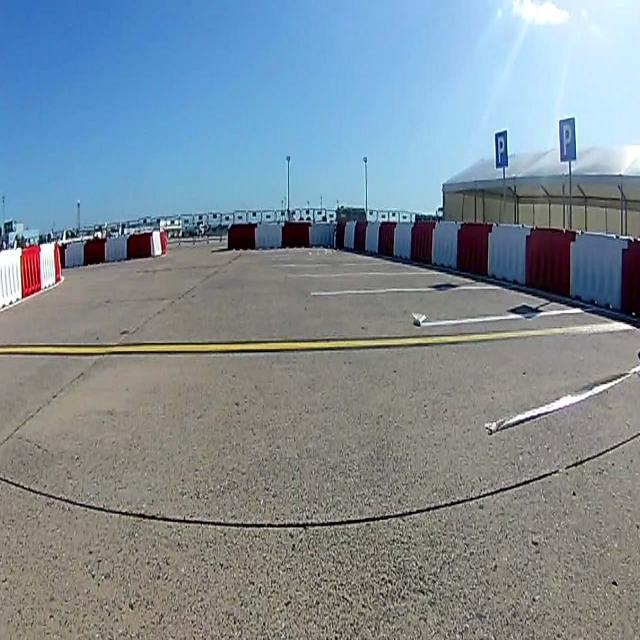park: (558, 117, 576, 163), (495, 129, 509, 170)
